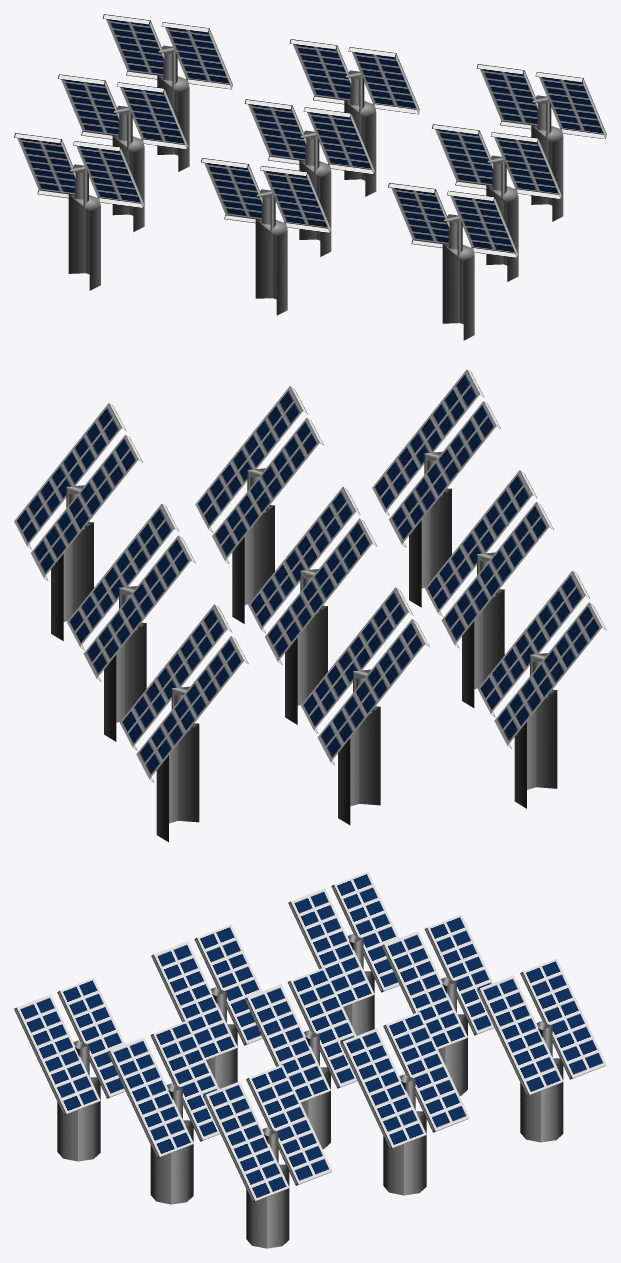
The model's file is SolarFarm.fbx.
The picture shows the model from 3 angles, top to bottom: view 1: azimuth 30°, elevation 25°; view 2: azimuth 150°, elevation 25°; view 3: azimuth 270°, elevation 25°; orthographic projection. The views are drawn at different scales.
Visible parts, largest first — view 1: polySurface66, polySurface67, polySurface68, polySurface64, polySurface63, polySurface65, polySurface56, polySurface61, polySurface62; view 2: polySurface65, polySurface68, polySurface61, polySurface64, polySurface66, polySurface67, polySurface63, polySurface62, polySurface56; view 3: polySurface63, polySurface65, polySurface64, polySurface62, polySurface66, polySurface56, polySurface61, polySurface67, polySurface68.
Boxes of the visible parts, <box> form: polySurface66: <box>388,183,518,340</box>; polySurface67: <box>201,158,331,315</box>; polySurface68: <box>14,133,144,290</box>; polySurface64: <box>289,39,419,196</box>; polySurface63: <box>476,64,606,221</box>; polySurface65: <box>102,14,232,171</box>; polySurface56: <box>244,99,374,256</box>; polySurface61: <box>58,74,187,231</box>; polySurface62: <box>432,124,561,281</box>; polySurface65: <box>119,604,248,842</box>; polySurface68: <box>478,571,606,808</box>; polySurface61: <box>301,587,429,825</box>; polySurface64: <box>67,504,195,741</box>; polySurface66: <box>372,369,500,607</box>; polySurface67: <box>425,470,553,707</box>; polySurface63: <box>14,403,142,640</box>; polySurface62: <box>195,386,323,623</box>; polySurface56: <box>248,487,376,724</box>; polySurface63: <box>203,1064,332,1248</box>; polySurface65: <box>477,958,606,1142</box>; polySurface64: <box>340,1011,469,1195</box>; polySurface62: <box>107,1020,220,1204</box>; polySurface66: <box>14,977,125,1161</box>; polySurface56: <box>244,967,357,1149</box>; polySurface61: <box>381,914,494,1095</box>; polySurface67: <box>151,924,262,1088</box>; polySurface68: <box>288,871,399,1035</box>.
Bounding box in the file's own units: 73.38 × 20.61 × 74.31.
